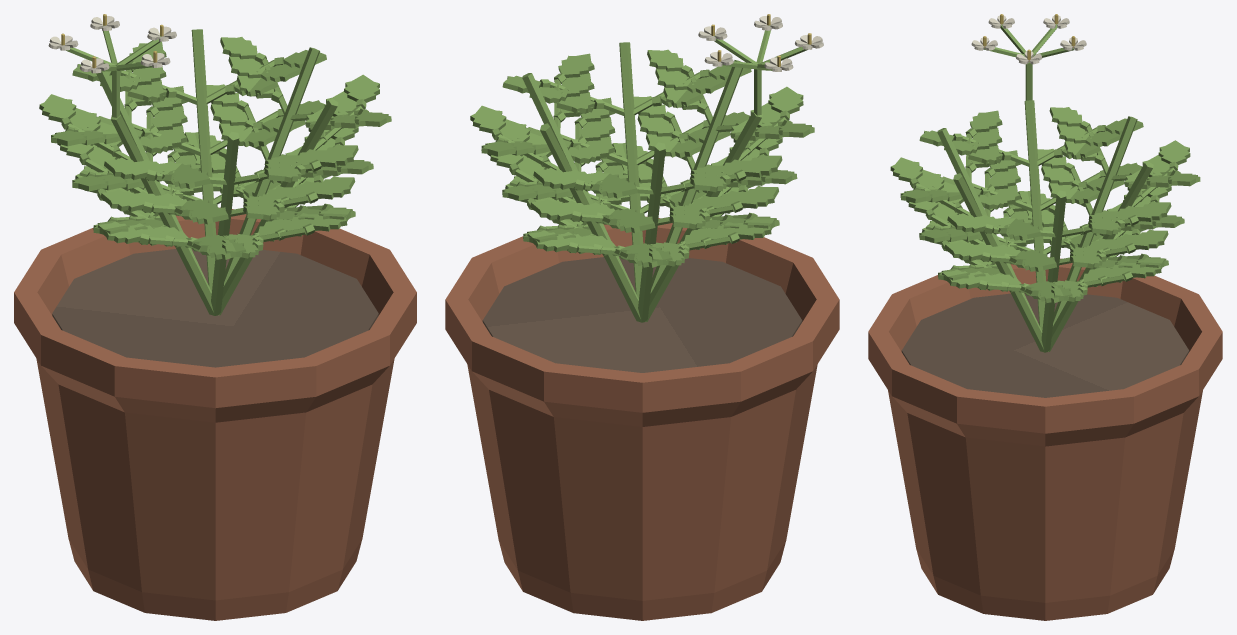
File: coriander.glb
3 renders of one model, left to right at view 1: azimuth 30°, elevation 25°; view 2: azimuth 150°, elevation 25°; view 3: azimuth 270°, elevation 25°, orthographic. The views are drawn at different scales.
Visible parts, largest first — view 1: coriander/review-terra-vessel, coriander/review-rooted-soil, coriander/petiole-214, coriander/petiole-171, coriander/petiole-001, coriander/petiole-085, coriander/petiole-128, coriander/petiole-257, coriander/leaf-036, coriander/leaf-170, coriander/leaf-113, coriander/leaf-127 (+7 smaller); view 2: coriander/review-terra-vessel, coriander/review-rooted-soil, coriander/petiole-128, coriander/petiole-085, coriander/petiole-214, coriander/petiole-257, coriander/petiole-001, coriander/petiole-171, coriander/leaf-043, coriander/leaf-249, coriander/leaf-299, coriander/leaf-285 (+8 smaller); view 3: coriander/review-terra-vessel, coriander/review-rooted-soil, coriander/petiole-001, coriander/petiole-257, coriander/petiole-128, coriander/petiole-171, coriander/petiole-214, coriander/petiole-085, coriander/leaf-256, coriander/leaf-163, coriander/leaf-199, coriander/leaf-213 (+5 smaller).
Part boxes in pixels (x1=…): coriander/review-terra-vessel: x1=14, y1=207, x2=416, y2=620; coriander/review-rooted-soil: x1=52, y1=248, x2=378, y2=367; coriander/petiole-214: x1=191, y1=29, x2=216, y2=291; coriander/petiole-171: x1=218, y1=47, x2=319, y2=315; coriander/petiole-001: x1=110, y1=114, x2=213, y2=315; coriander/petiole-085: x1=211, y1=131, x2=239, y2=315; coriander/petiole-128: x1=213, y1=99, x2=338, y2=315; coriander/petiole-257: x1=96, y1=71, x2=211, y2=293; coriander/leaf-036: x1=39, y1=94, x2=76, y2=122; coriander/leaf-170: x1=344, y1=74, x2=379, y2=102; coriander/leaf-113: x1=316, y1=176, x2=355, y2=199; coriander/leaf-127: x1=319, y1=144, x2=358, y2=167; coriander/review-terra-vessel: x1=445, y1=216, x2=839, y2=620; coriander/review-rooted-soil: x1=482, y1=257, x2=802, y2=372; coriander/petiole-128: x1=619, y1=42, x2=643, y2=298; coriander/petiole-085: x1=645, y1=60, x2=742, y2=321; coriander/petiole-214: x1=540, y1=123, x2=640, y2=321; coriander/petiole-257: x1=638, y1=142, x2=665, y2=322; coriander/petiole-001: x1=640, y1=111, x2=762, y2=322; coriander/petiole-171: x1=522, y1=73, x2=638, y2=300; coriander/leaf-043: x1=768, y1=86, x2=803, y2=113; coriander/leaf-249: x1=470, y1=105, x2=506, y2=133; coriander/leaf-299: x1=744, y1=154, x2=782, y2=177; coriander/leaf-285: x1=740, y1=186, x2=778, y2=208; coriander/review-terra-vessel: x1=868, y1=257, x2=1222, y2=620; coriander/review-rooted-soil: x1=901, y1=293, x2=1189, y2=397; coriander/petiole-001: x1=1024, y1=100, x2=1045, y2=330; coriander/petiole-257: x1=1048, y1=116, x2=1137, y2=351; coriander/petiole-128: x1=953, y1=173, x2=1043, y2=351; coriander/petiole-171: x1=1041, y1=190, x2=1066, y2=352; coriander/petiole-214: x1=1043, y1=161, x2=1153, y2=352; coriander/petiole-085: x1=937, y1=128, x2=1042, y2=332; coriander/leaf-256: x1=1158, y1=140, x2=1190, y2=164; coriander/leaf-163: x1=890, y1=157, x2=922, y2=182; coriander/leaf-199: x1=1134, y1=229, x2=1168, y2=249; coriander/leaf-213: x1=1137, y1=201, x2=1171, y2=221.
Bounding box in the file's own units: 0.19 × 0.2906 × 0.19.
5 materials, 5 textured.
